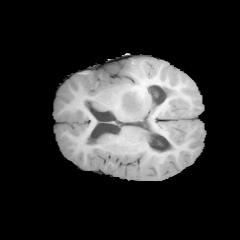glioma: (118, 89, 146, 119)
